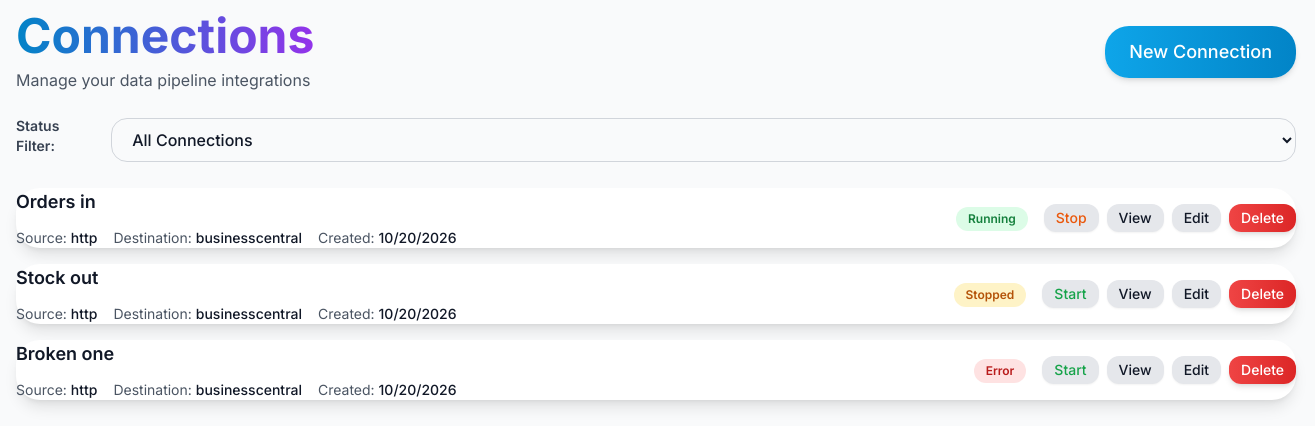
Test case: ConnectionsList: stop and start › Stop with no status in the answer shows the connection stopped
Expected: the heading "Orders in" is shown, [16, 191, 96, 212]
Step 1. Click the button "Stop" → (1071, 218), box [1044, 204, 1099, 232]
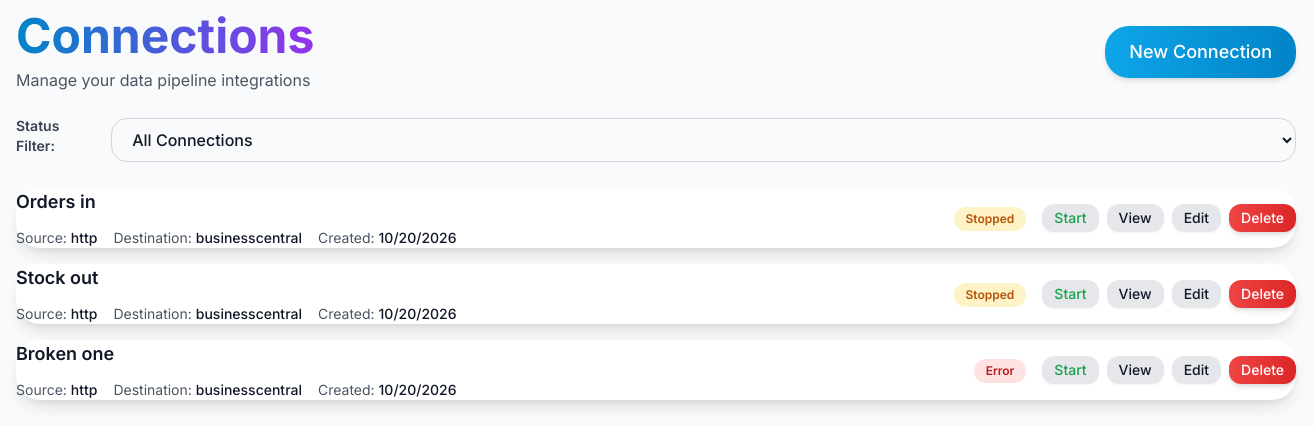
Now the text "Stopped" in the row of "Orders in" is shown, box [966, 211, 1014, 226]
